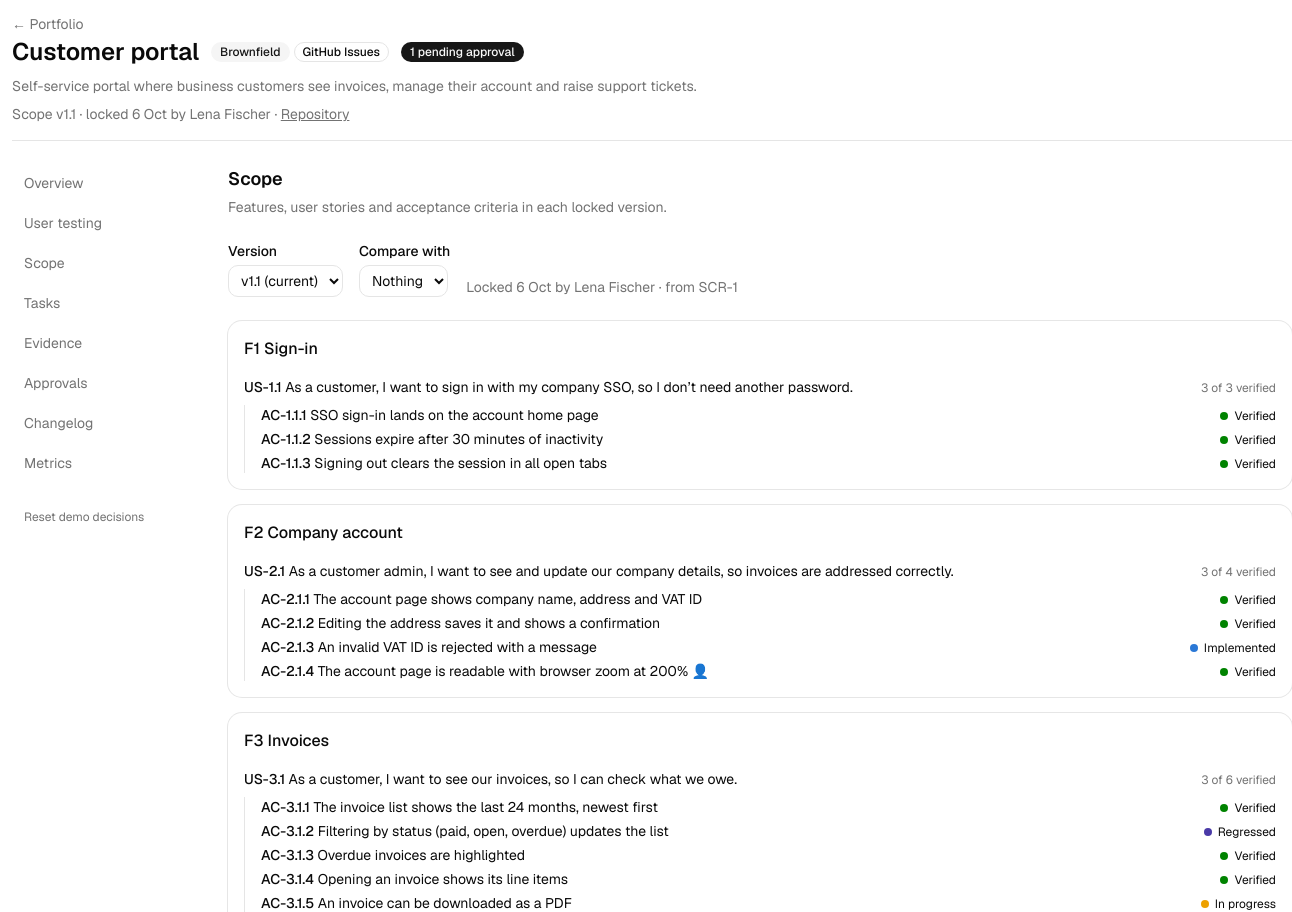
ScopeView › shows an older version without states
Select "v1" in the dropdown labelled "Version" at coordinates (286, 281), box 228,265 -> 343,297
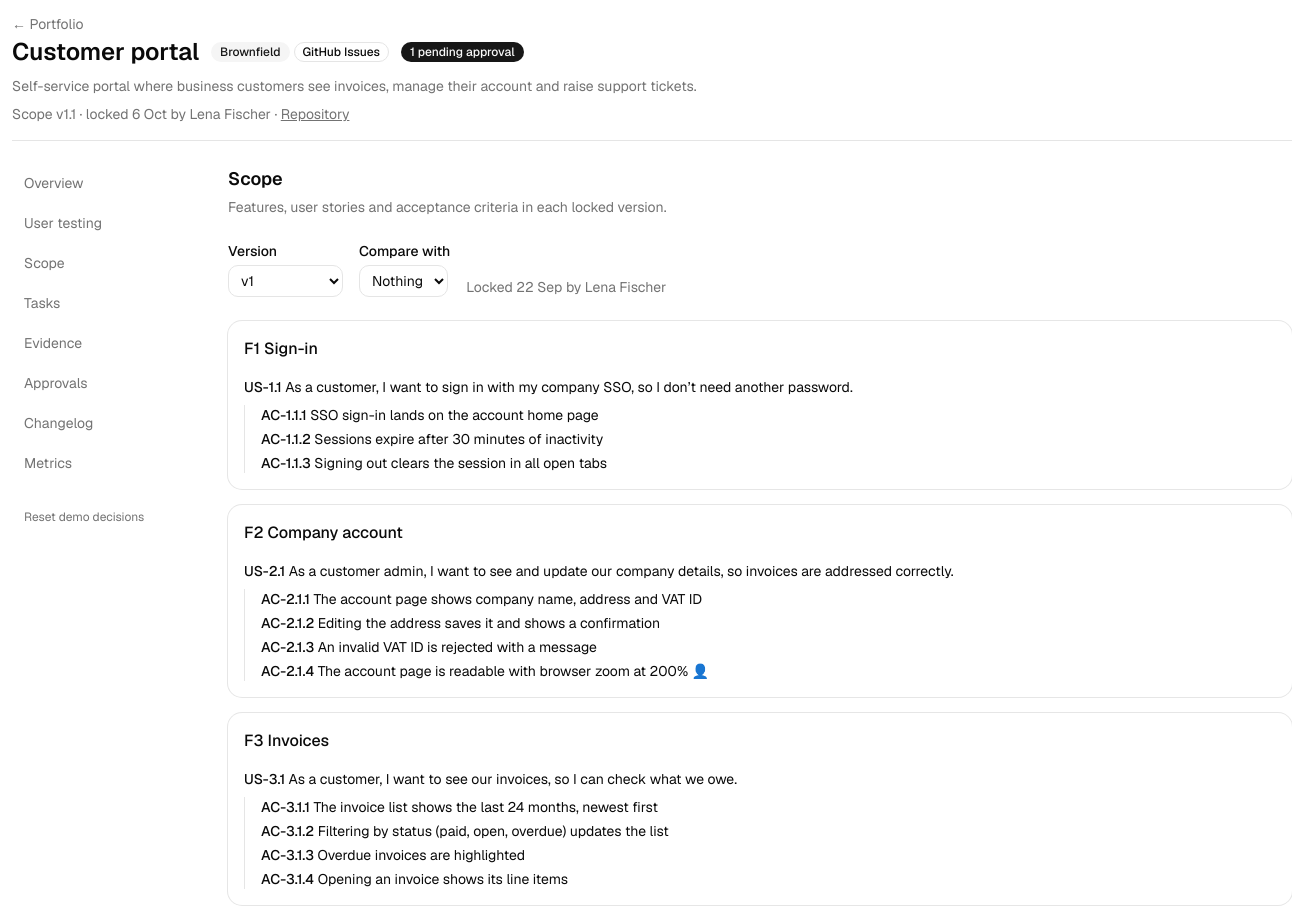
Expected: the text "AC-3.1.5" is gone
Expected: the text "Regressed" is gone
Expected: the text "Locked 22 Sep by Lena Fischer" is shown, 466,277 -> 666,297
